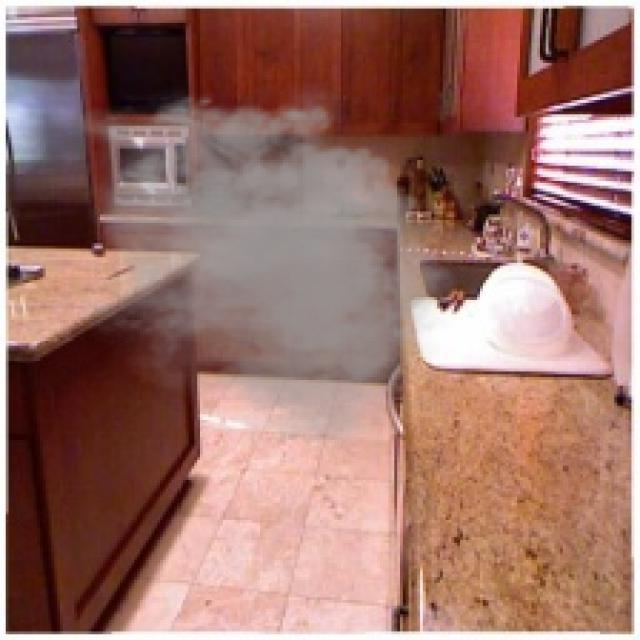Smoke: (57, 77, 469, 457)
